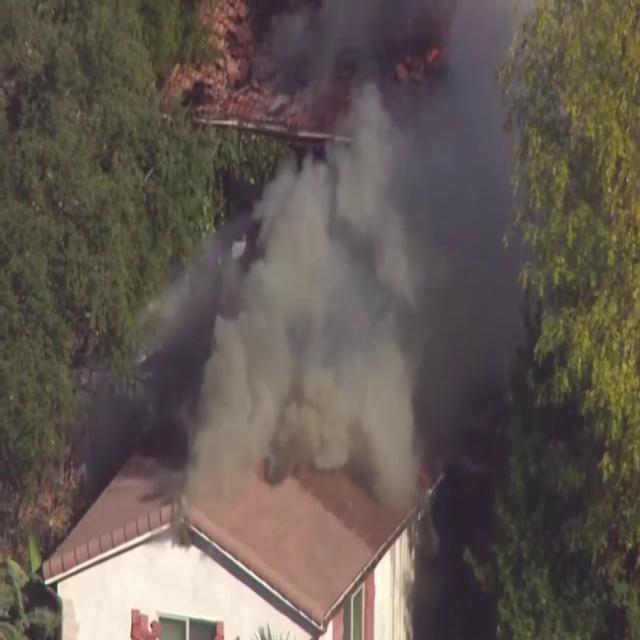Smoke: (192, 0, 584, 535)
